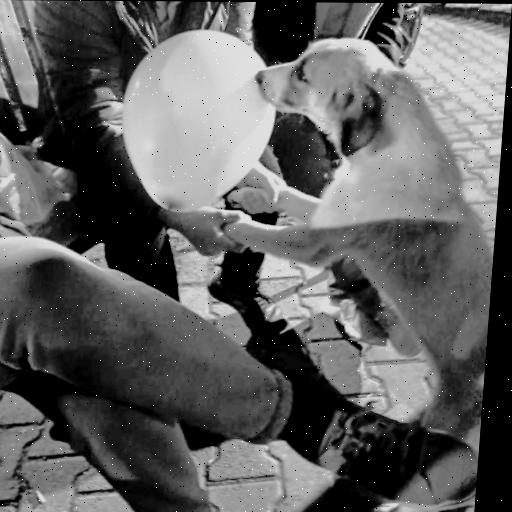balloon: (114, 28, 290, 214)
